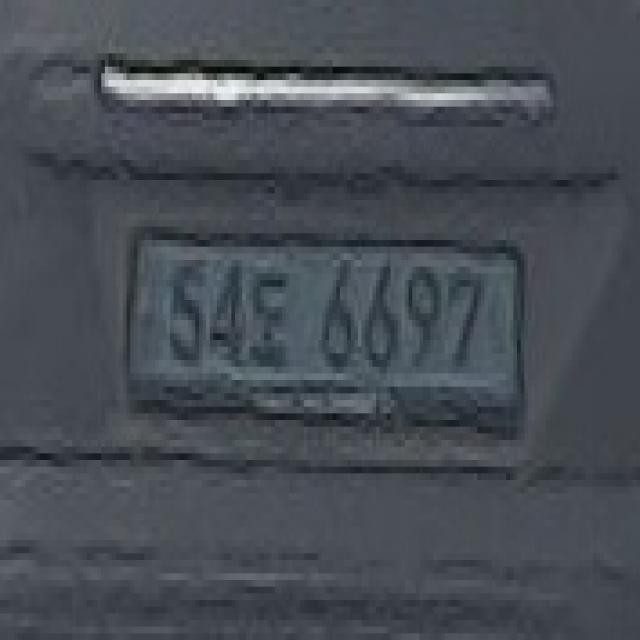4: (203, 253, 253, 380)
5: (163, 260, 206, 380)
6: (365, 240, 409, 380), (326, 240, 366, 367)
7: (445, 254, 495, 374)
9: (405, 240, 445, 387)
do: (246, 246, 296, 366)
license_plate: (119, 234, 535, 434)
